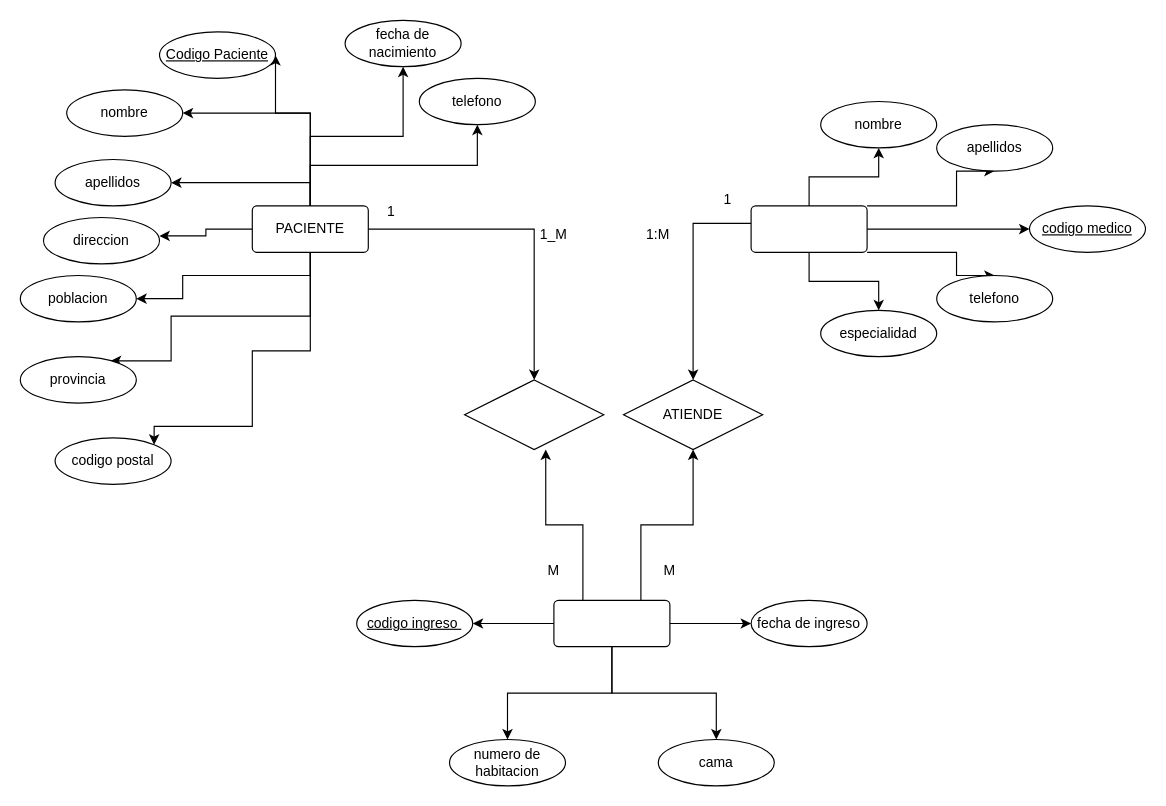
The diagram is 1166 pixels wide and 806 high, and some of its shapes have lost their labels. The box of each missing label's shape, as (x1, y1, x2, y2) in pixels:
INGRESO: (553, 599, 670, 647)
MEDICO: (750, 205, 867, 252)
REALIZA: (463, 379, 604, 449)
